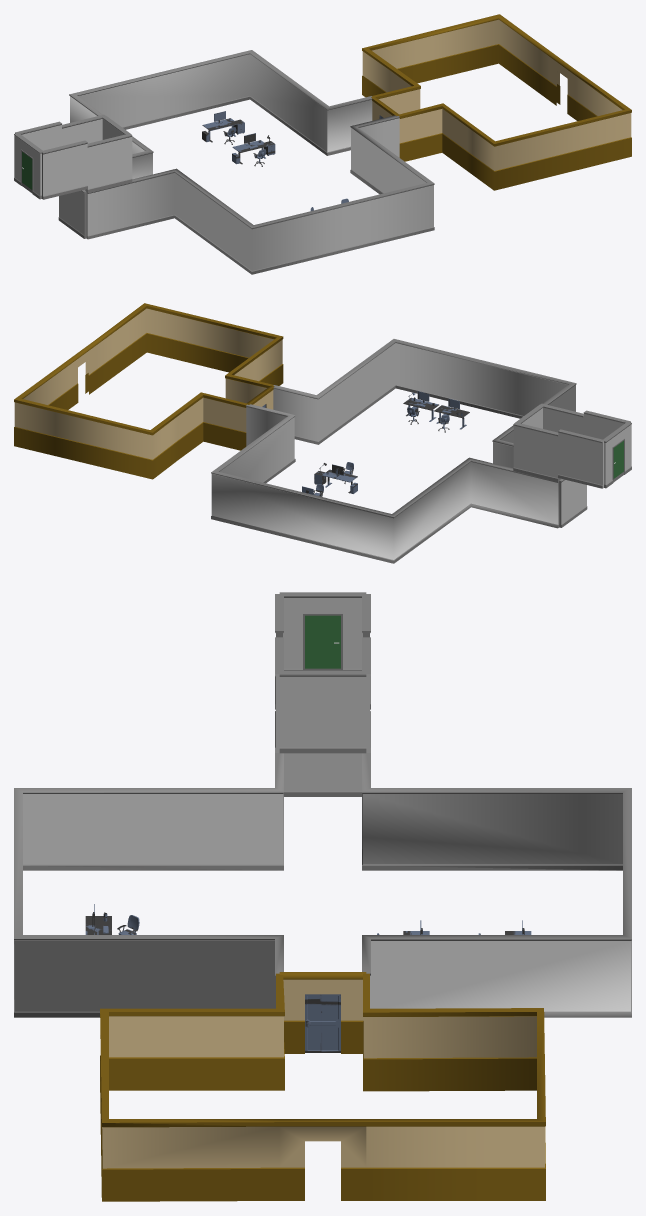
The model's file is ModernOffice_2.fbx.
The picture shows the model from 3 angles, top to bottom: view 1: azimuth 30°, elevation 25°; view 2: azimuth 150°, elevation 25°; view 3: azimuth 270°, elevation 25°; orthographic projection. The views are drawn at different scales.
Parts seen in each view (by area): view 1: Walls, Walls_002, Neo_Wall_snaps001_11, Neo_WallDoor_01_snaps001, Desk_01_LOD1__1_, Desk_00_LOD1__1_; view 2: Walls, Walls_002, Neo_Wall_snaps001_11, Neo_WallDoor_01_snaps001, Desk_01_LOD1__1_, Desk_02_LOD1__1_, Desk_03_LOD1__1_; view 3: Walls, Walls_002, Neo_Wall_snaps001_11, Neo_WallDoor_01_snaps001, S1_Walls_00, Door_LOD1__1_, Desk_03_LOD1__1_.
Boxes of the visible parts, bbox=[...] form: Walls: bbox=[58, 50, 434, 274]; Walls_002: bbox=[362, 14, 631, 190]; Neo_Wall_snaps001_11: bbox=[15, 114, 132, 199]; Neo_WallDoor_01_snaps001: bbox=[14, 133, 43, 199]; Desk_01_LOD1__1_: bbox=[232, 133, 275, 166]; Desk_00_LOD1__1_: bbox=[202, 111, 244, 144]; Walls: bbox=[211, 339, 587, 563]; Walls_002: bbox=[14, 303, 283, 479]; Neo_Wall_snaps001_11: bbox=[513, 403, 630, 488]; Neo_WallDoor_01_snaps001: bbox=[602, 422, 631, 488]; Desk_01_LOD1__1_: bbox=[314, 462, 357, 493]; Desk_02_LOD1__1_: bbox=[403, 391, 438, 424]; Desk_03_LOD1__1_: bbox=[434, 398, 469, 432]; Walls: bbox=[14, 753, 631, 1017]; Walls_002: bbox=[100, 973, 545, 1201]; Neo_Wall_snaps001_11: bbox=[275, 594, 370, 753]; Neo_WallDoor_01_snaps001: bbox=[279, 592, 366, 670]; S1_Walls_00: bbox=[279, 972, 366, 1053]; Door_LOD1__1_: bbox=[305, 994, 340, 1052]; Desk_03_LOD1__1_: bbox=[85, 904, 139, 934].
Size of what is drawn, in the model's own units: 3634 by 626 by 2131.
